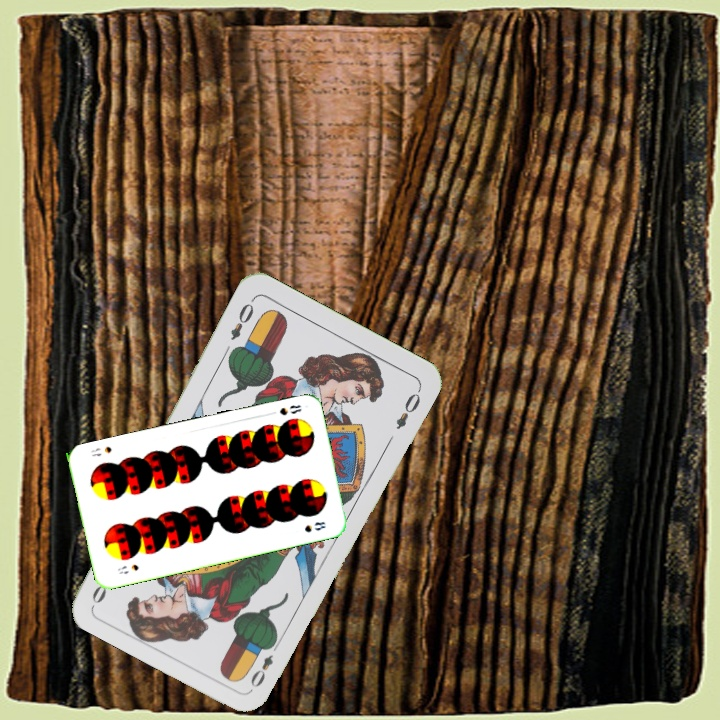EO: (246, 637, 282, 691), (226, 299, 257, 343)
S8: (275, 401, 304, 418), (114, 560, 141, 576)
